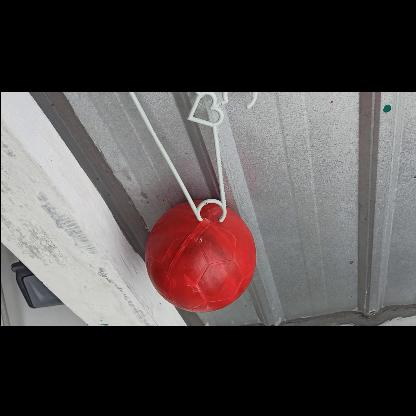red_ball: (144, 198, 256, 312)
